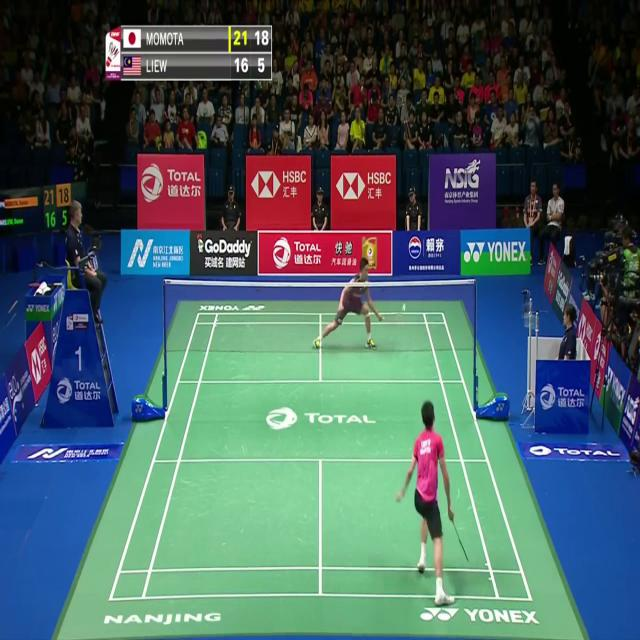Shuttlecock: (401, 302, 407, 313)
